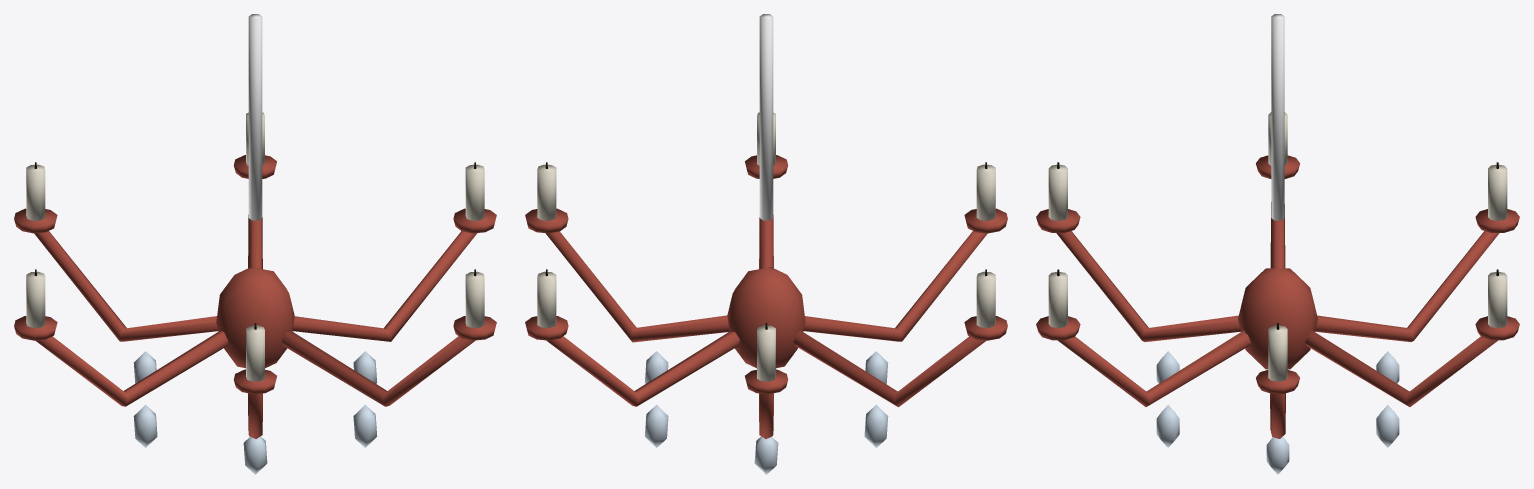
Rendered from rich_mahogany_chandelier_v0.glb.
The picture shows the model from 3 angles, left to right: view 1: azimuth 30°, elevation 25°; view 2: azimuth 150°, elevation 25°; view 3: azimuth 270°, elevation 25°; orthographic projection.
Visible parts, largest first — view 1: rich_mahogany_chandelier_v0; view 2: rich_mahogany_chandelier_v0; view 3: rich_mahogany_chandelier_v0.
Part boxes in pixels (box(x1,y1,x2,y2)): rich_mahogany_chandelier_v0: box(14, 14, 496, 474); rich_mahogany_chandelier_v0: box(525, 14, 1007, 474); rich_mahogany_chandelier_v0: box(1036, 14, 1519, 474).
Size of the model in its own units: 1.24 by 1 by 1.09.
